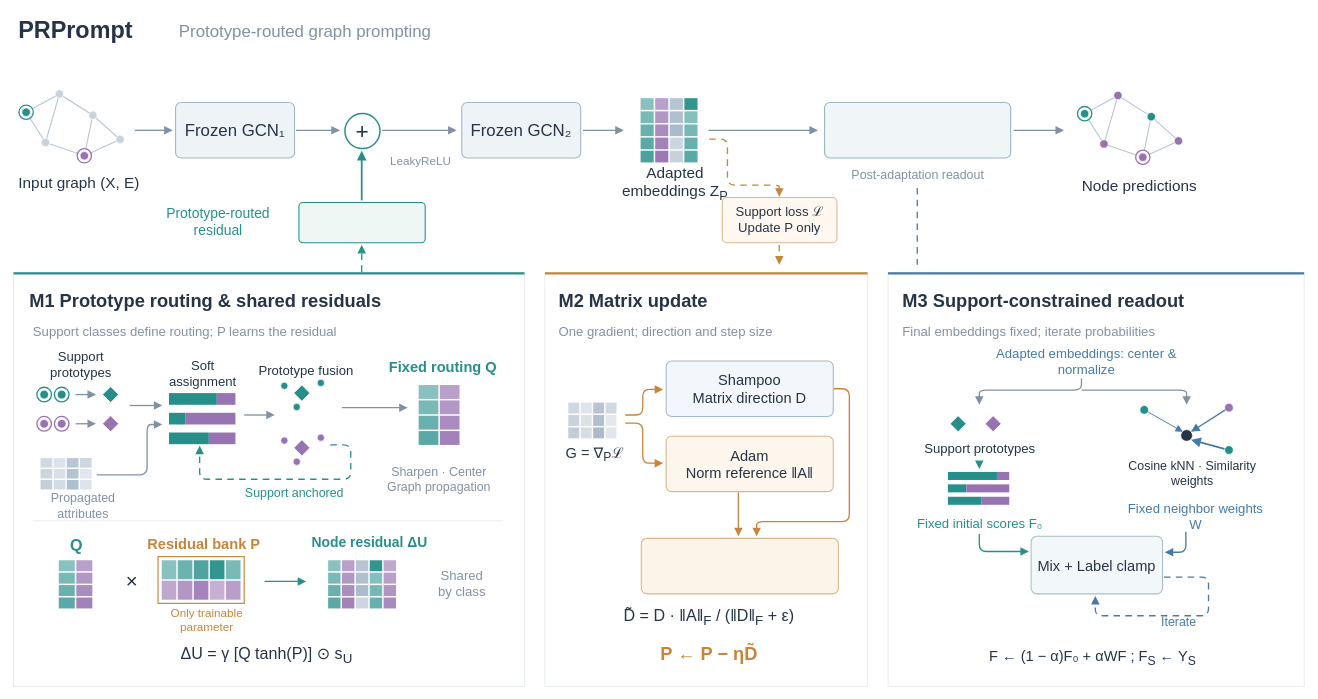
The diagram is 1318 pixels wide and 699 high, and some of its shapes have lost their labels. The shapes that lost their labels are listed below. From the top down, each one's centre as x and y in pixels, then its label:
At pixel 917 130: "Support-constrained probability propagation".
At pixel 361 222: "ΔU".
At pixel 739 565: "Preserve direction · Match norm".
